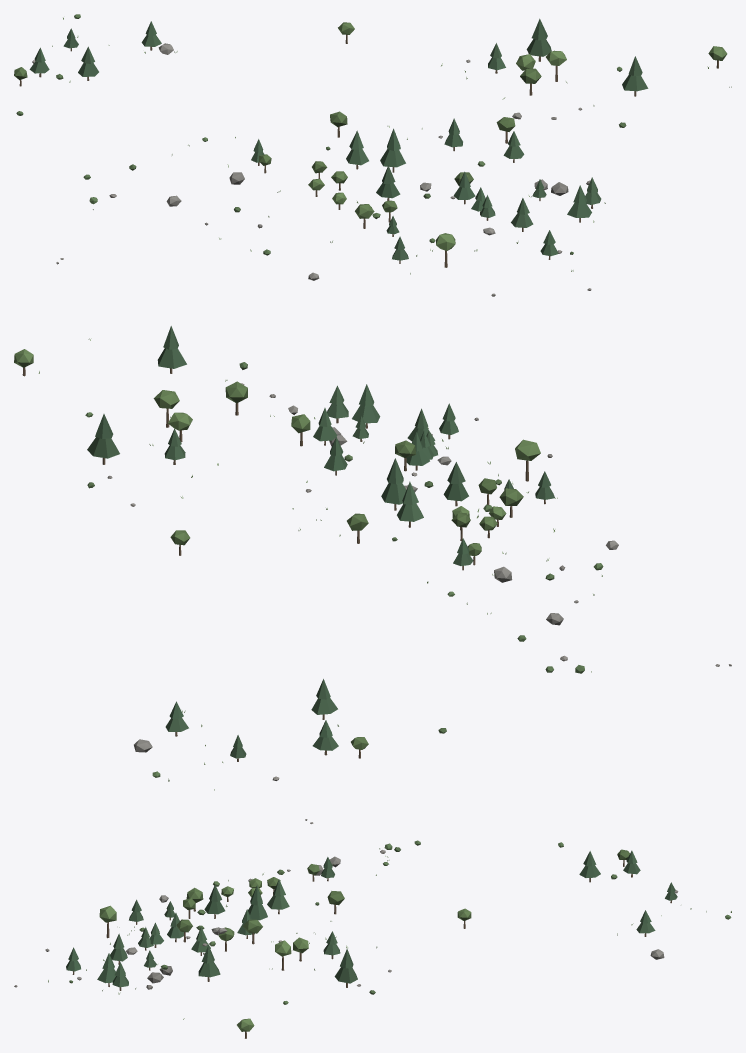
File: arch_land_scatter_c21_22_lod1.glb
3 renders of one model, top to bottom at view 1: azimuth 30°, elevation 25°; view 2: azimuth 150°, elevation 25°; view 3: azimuth 270°, elevation 25°, orthographic. The views are drawn at different scales.
Parts seen in each view (by area): view 1: arch_land_scatter_c21_22_lod1; view 2: arch_land_scatter_c21_22_lod1; view 3: arch_land_scatter_c21_22_lod1.
Part boxes in pixels (x1=…): arch_land_scatter_c21_22_lod1: x1=14, y1=14, x2=731, y2=296; arch_land_scatter_c21_22_lod1: x1=14, y1=326, x2=731, y2=790; arch_land_scatter_c21_22_lod1: x1=14, y1=819, x2=731, y2=1038.
Bounding box in the file's own units: 201 × 37.37 × 216.
